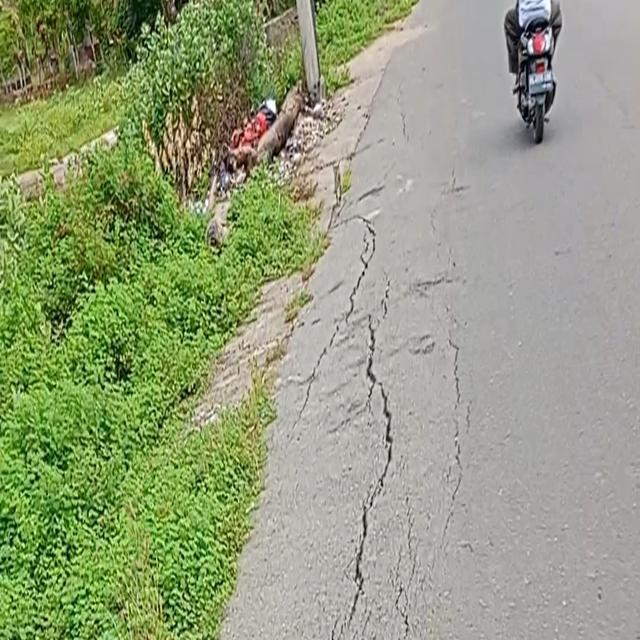Memanjang: (308, 313, 403, 639)
Pinggir: (114, 80, 395, 640)
